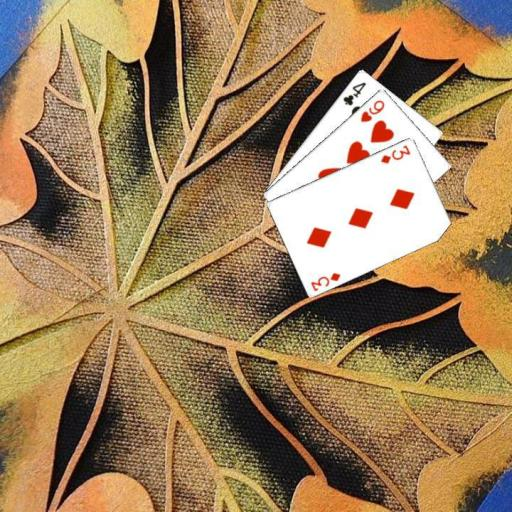3D: (378, 141, 412, 165), (308, 269, 342, 292)
4C: (340, 78, 368, 107)
9H: (357, 96, 386, 123)
